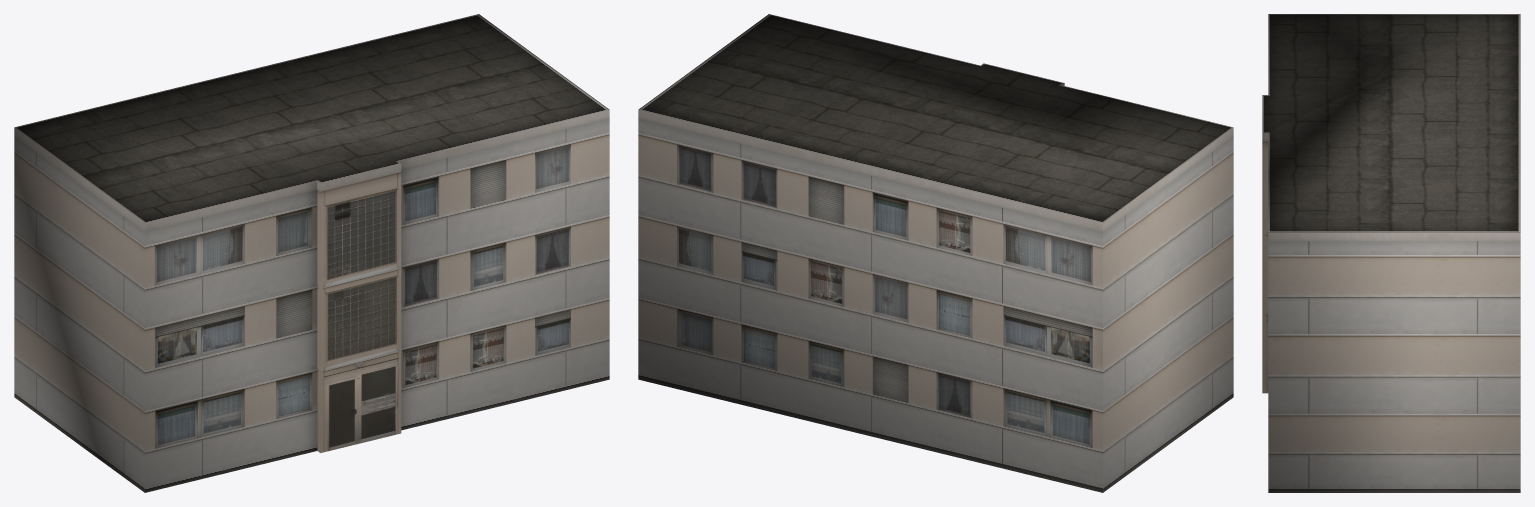
File: mehrfamilienhaus_03.fbx
The picture shows the model from 3 angles, left to right: view 1: azimuth 30°, elevation 25°; view 2: azimuth 150°, elevation 25°; view 3: azimuth 270°, elevation 25°; orthographic projection. The views are drawn at different scales.
Parts seen in each view (by area): view 1: mehrfamilienhaus_03; view 2: mehrfamilienhaus_03; view 3: mehrfamilienhaus_03.
Boxes of the visible parts, x1,y1,x2,y2 form: mehrfamilienhaus_03: (14,14,609,492); mehrfamilienhaus_03: (638,14,1233,492); mehrfamilienhaus_03: (1262,14,1520,492).
Size of the model in its own units: 1336 by 741 by 667.
